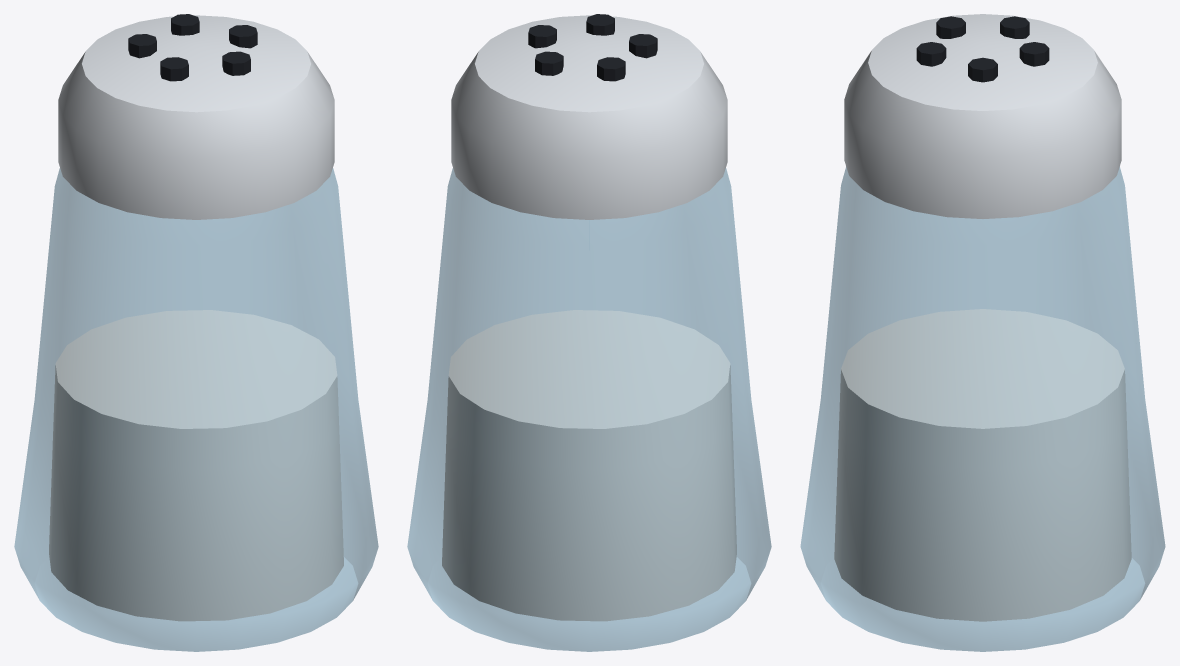
The model's file is saleiro.glb.
3 views of the same model, side by side, from view 1: azimuth 30°, elevation 25°; view 2: azimuth 150°, elevation 25°; view 3: azimuth 270°, elevation 25° (orthographic).
Parts seen in each view (by area): view 1: saleiro; view 2: saleiro; view 3: saleiro.
Part boxes in pixels (x1,y1,x2,y2): saleiro: (14,14,378,651); saleiro: (407,14,771,651); saleiro: (800,14,1165,651).
Size of the model in its own units: 0.054 by 0.0885 by 0.054.
2 materials, 1 textured.
